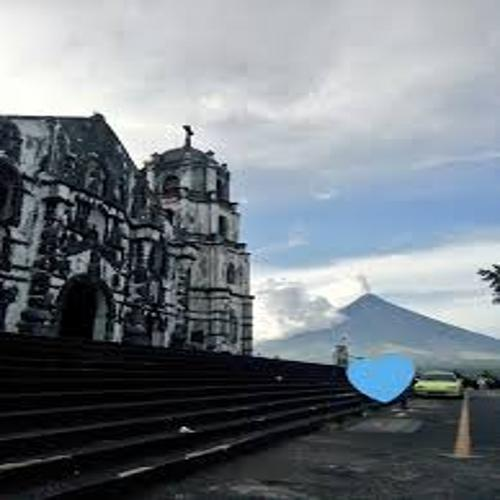Daraga Church: (2, 107, 259, 359)
